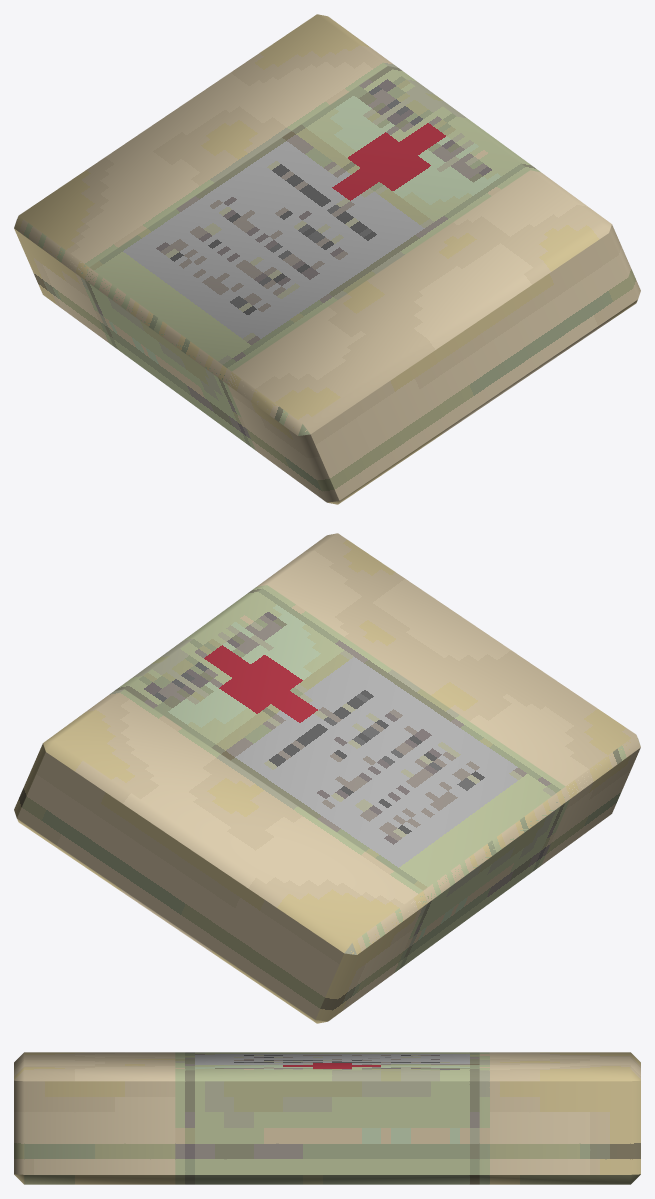
The model's file is aidkit.glb.
3 renders of one model, top to bottom at view 1: azimuth 30°, elevation 25°; view 2: azimuth 150°, elevation 25°; view 3: azimuth 270°, elevation 25°, orthographic. The views are drawn at different scales.
Visible parts, largest first — view 1: box 7; view 2: box 7; view 3: box 7.
Part boxes in pixels (x1,y1,x2,y2): box 7: (14,14,640,504); box 7: (14,533,640,1023); box 7: (14,1052,640,1184).
Size of the model in its own units: 0.812 by 0.4943 by 1.2.
Materials: 1 (1 with a texture image).
